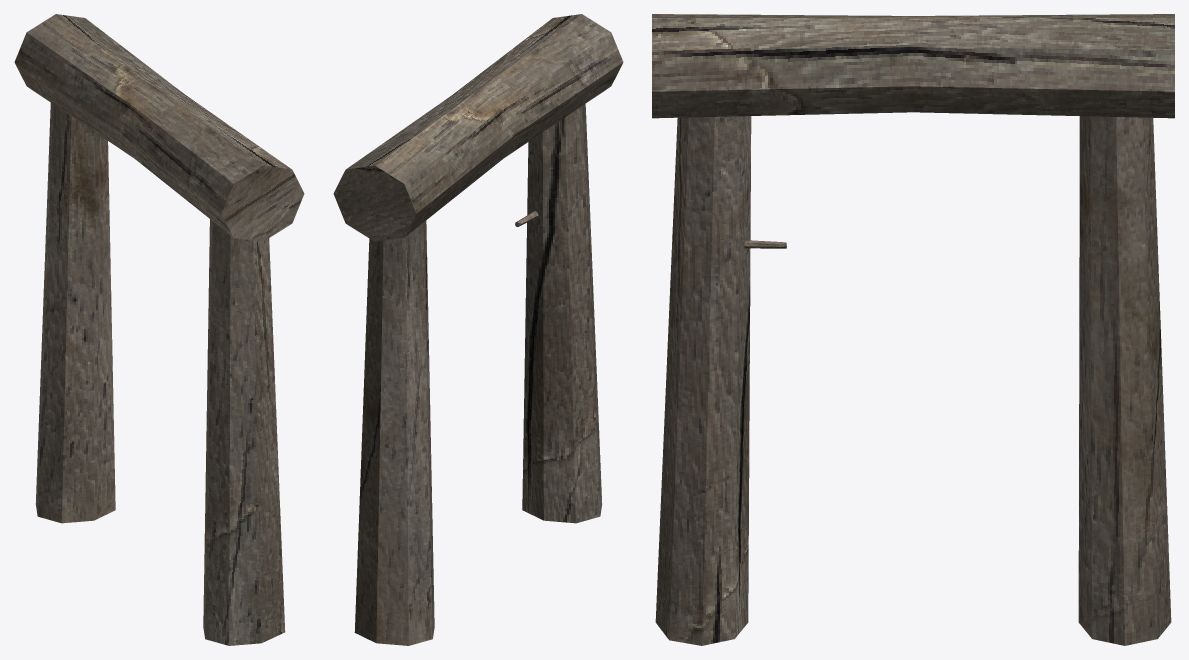
Rendered from timber_set.glb.
3 views of the same model, side by side, from view 1: azimuth 30°, elevation 25°; view 2: azimuth 150°, elevation 25°; view 3: azimuth 270°, elevation 25° (orthographic). The views are drawn at different scales.
Visible parts, largest first — view 1: frame_main; view 2: frame_main; view 3: frame_main.
Part boxes in pixels (x1,y1,x2,y2): frame_main: (14,14,304,645); frame_main: (333,14,623,645); frame_main: (652,14,1174,645).
Bounding box in the file's own units: 0.516 × 2.85 × 2.23.
1 material, 1 textured.
